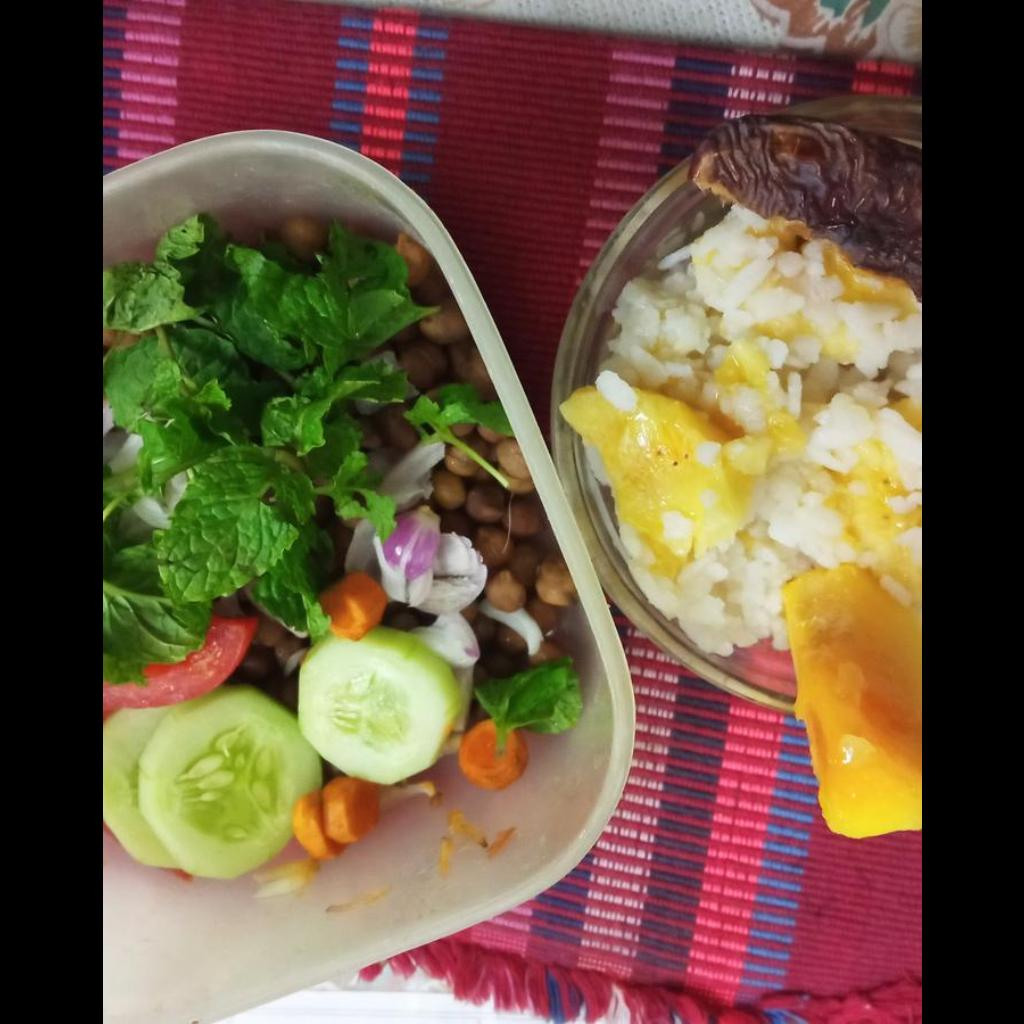dates: (691, 115, 920, 299)
mango: (784, 565, 920, 837)
rice: (562, 203, 920, 654)
salad: (102, 217, 579, 878)
